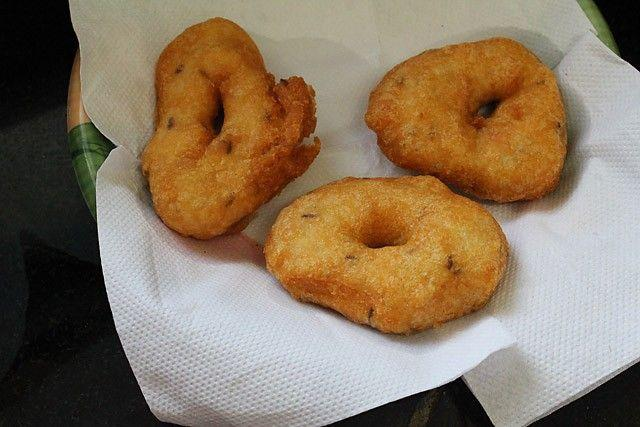medu vada: (138, 20, 576, 335)
